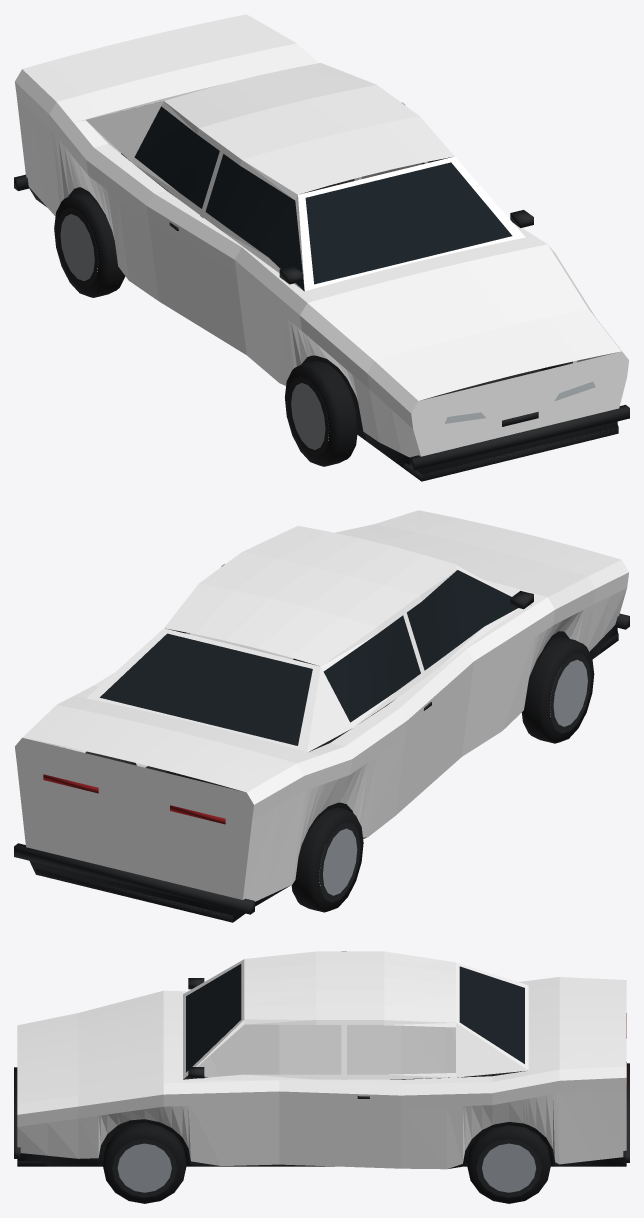
Rendered from bancroft_festa.glb.
The picture shows the model from 3 angles, top to bottom: view 1: azimuth 30°, elevation 25°; view 2: azimuth 150°, elevation 25°; view 3: azimuth 270°, elevation 25°; orthographic projection. The views are drawn at different scales.
Parts seen in each view (by area): view 1: Body_Paint, Body_Details, Mount_FrontLeft_Wheel_Details, Mount_RearLeft_Wheel_Details; view 2: Body_Paint, Body_Details, Mount_FrontLeft_Wheel_Details, Mount_RearLeft_Wheel_Details; view 3: Body_Paint, Body_Details, Mount_FrontRight_Wheel_Details, Mount_RearRight_Wheel_Details.
Part boxes in pixels (x1=…): Body_Paint: x1=15, y1=14, x2=628, y2=457; Body_Details: x1=14, y1=106, x2=629, y2=481; Mount_FrontLeft_Wheel_Details: x1=284, y1=360, x2=357, y2=466; Mount_RearLeft_Wheel_Details: x1=54, y1=192, x2=125, y2=297; Body_Paint: x1=15, y1=510, x2=629, y2=901; Body_Details: x1=14, y1=570, x2=629, y2=922; Mount_FrontLeft_Wheel_Details: x1=521, y1=636, x2=594, y2=743; Mount_RearLeft_Wheel_Details: x1=291, y1=807, x2=363, y2=912; Body_Paint: x1=17, y1=951, x2=626, y2=1169; Body_Details: x1=14, y1=964, x2=629, y2=1168; Mount_FrontRight_Wheel_Details: x1=103, y1=1122, x2=186, y2=1203; Mount_RearRight_Wheel_Details: x1=467, y1=1125, x2=550, y2=1203.
Bounding box in the file's own units: 1.97 × 1.54 × 5.01.
2 materials, 1 textured.
